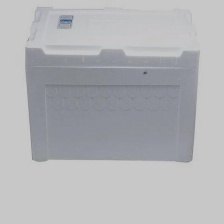foam_box: (17, 0, 207, 168)
